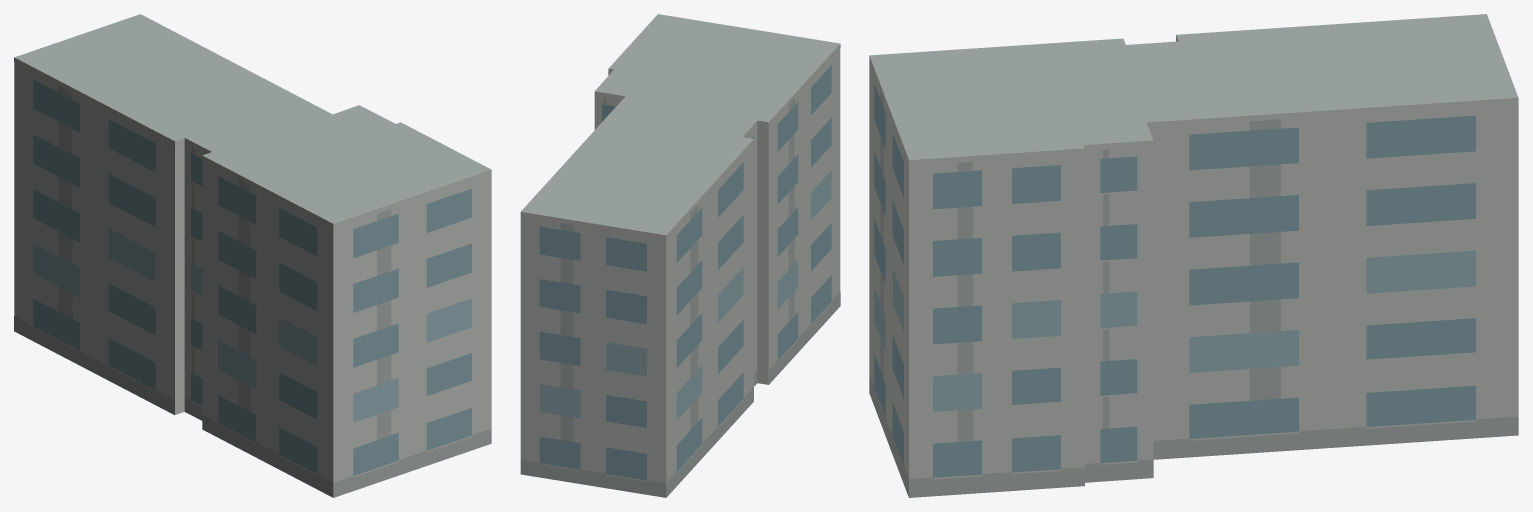
File: survey-upis-32931676.glb
The picture shows the model from 3 angles, left to right: view 1: azimuth 30°, elevation 25°; view 2: azimuth 150°, elevation 25°; view 3: azimuth 270°, elevation 25°; orthographic projection. The views are drawn at different scales.
Visible parts, largest first — view 1: survey-upis-32931676.tmp; view 2: survey-upis-32931676.tmp; view 3: survey-upis-32931676.tmp.
Boxes of the visible parts, x1,y1,x2,y2 form: survey-upis-32931676.tmp: (14, 14, 491, 497); survey-upis-32931676.tmp: (520, 14, 840, 497); survey-upis-32931676.tmp: (869, 14, 1518, 497).
Bounding box in the file's own units: 13.2 × 14.2 × 24.75.
